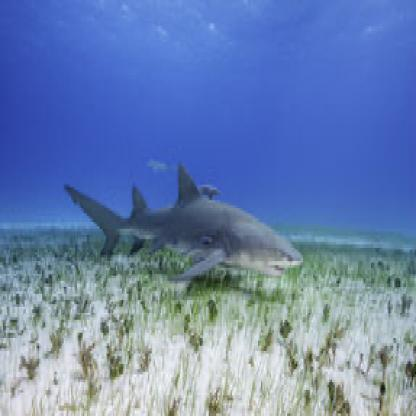shark: (63, 157, 301, 282)
